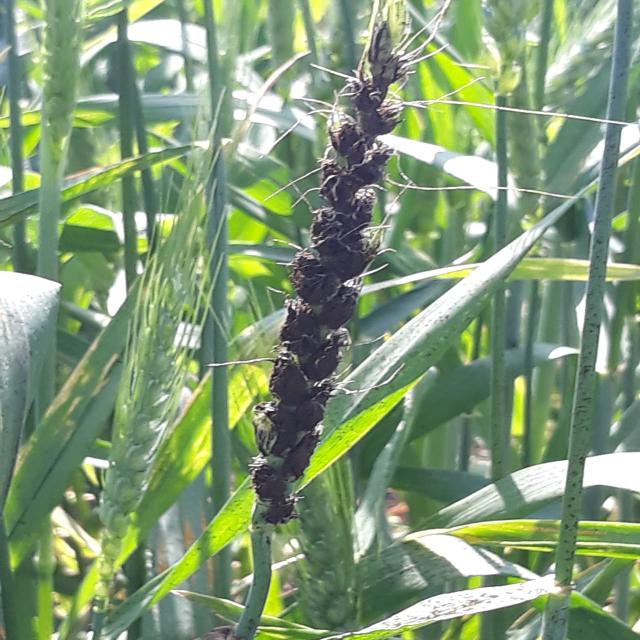loose_charred: (221, 8, 432, 625), (538, 83, 640, 639), (348, 582, 524, 632)
